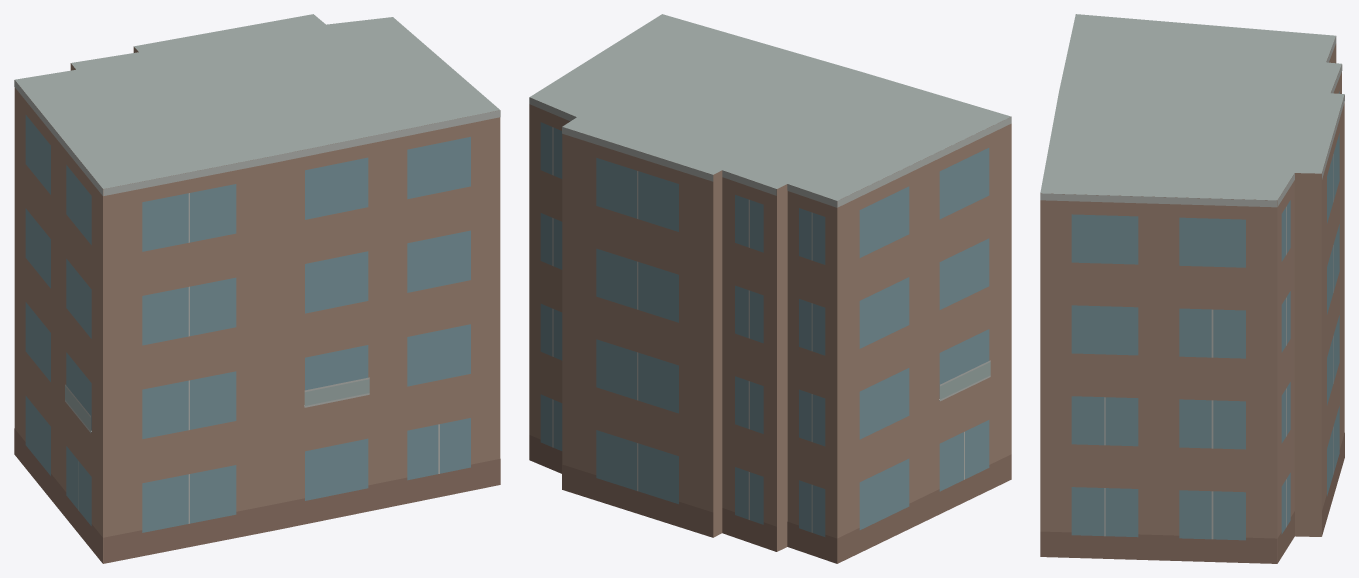
The model's file is survey-upis-32787831.glb.
3 renders of one model, left to right at view 1: azimuth 30°, elevation 25°; view 2: azimuth 150°, elevation 25°; view 3: azimuth 270°, elevation 25°, orthographic. The views are drawn at different scales.
Parts seen in each view (by area): view 1: survey-upis-32787831.tmp; view 2: survey-upis-32787831.tmp; view 3: survey-upis-32787831.tmp.
Part boxes in pixels (<box>): survey-upis-32787831.tmp: <box>14,14,500,563</box>; survey-upis-32787831.tmp: <box>529,14,1011,563</box>; survey-upis-32787831.tmp: <box>1040,14,1344,563</box>.
Size of the model in its own units: 14.09 by 12.8 by 9.73.
